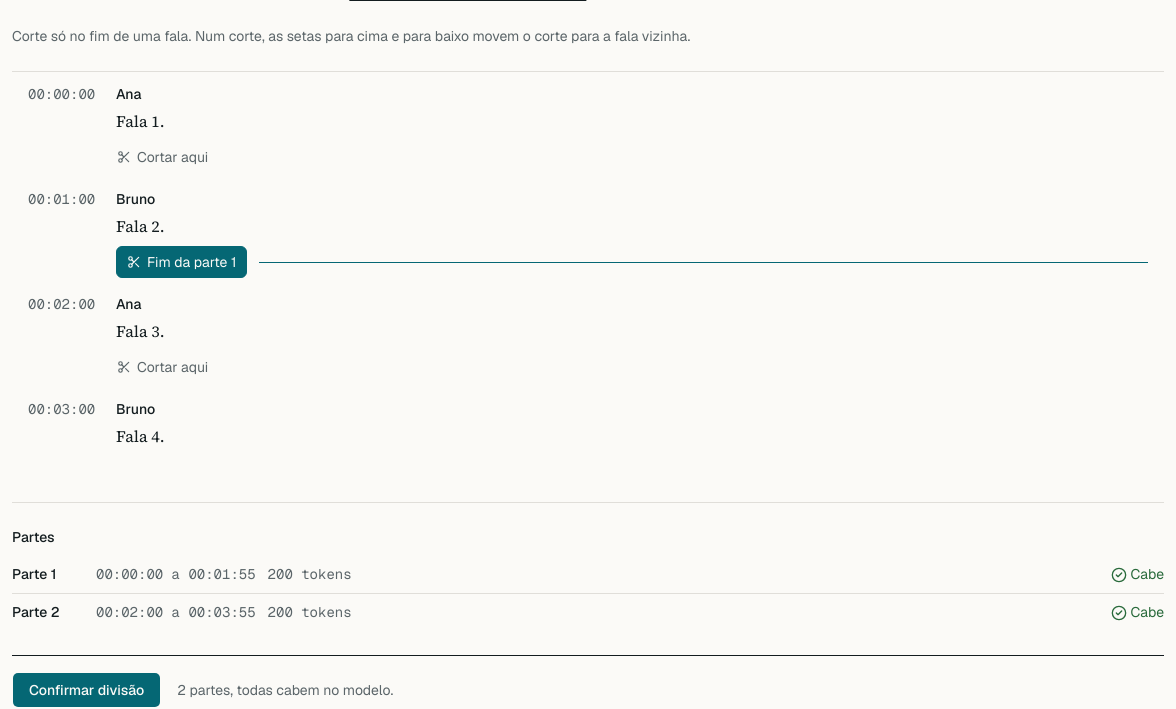
Scenario: mostra a recusa da API e fica na tela (15)
(page scrolled)
What coordinates should you click on to do the following:
click the button "Confirmar divisão"
I would click on:
 (87, 690)
Its box is [12,672,161,708].
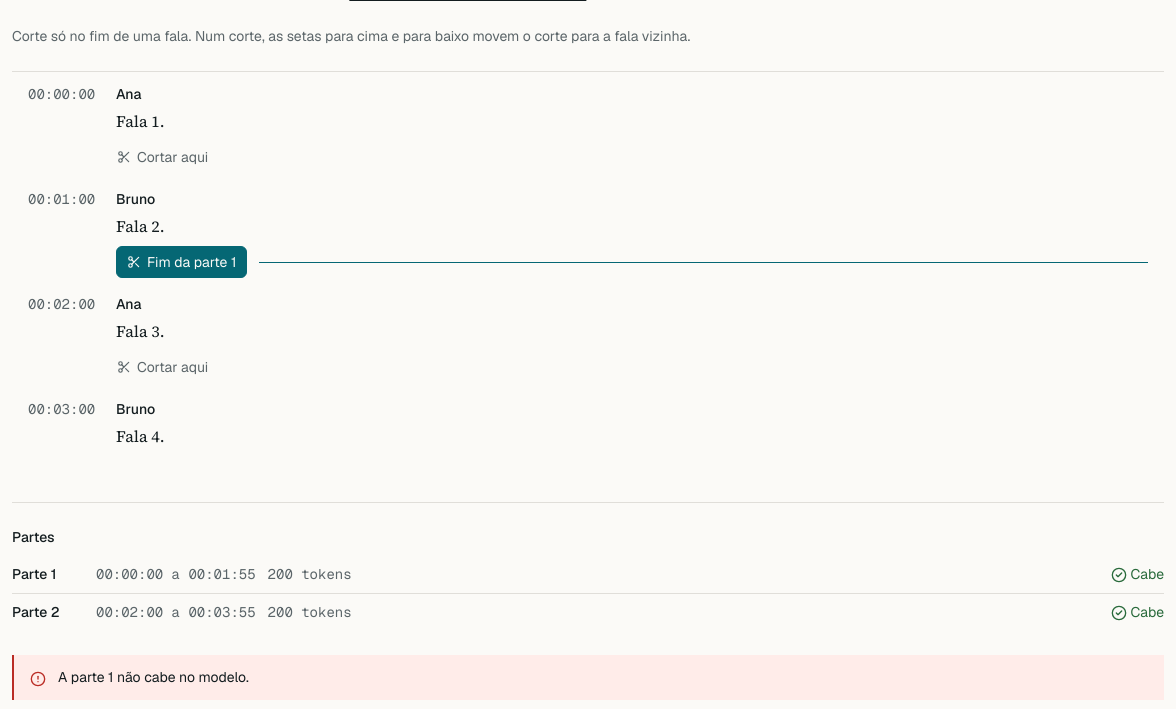
expect the message reads "A parte 1 não cabe no modelo.": met, box [58,668,249,686]
